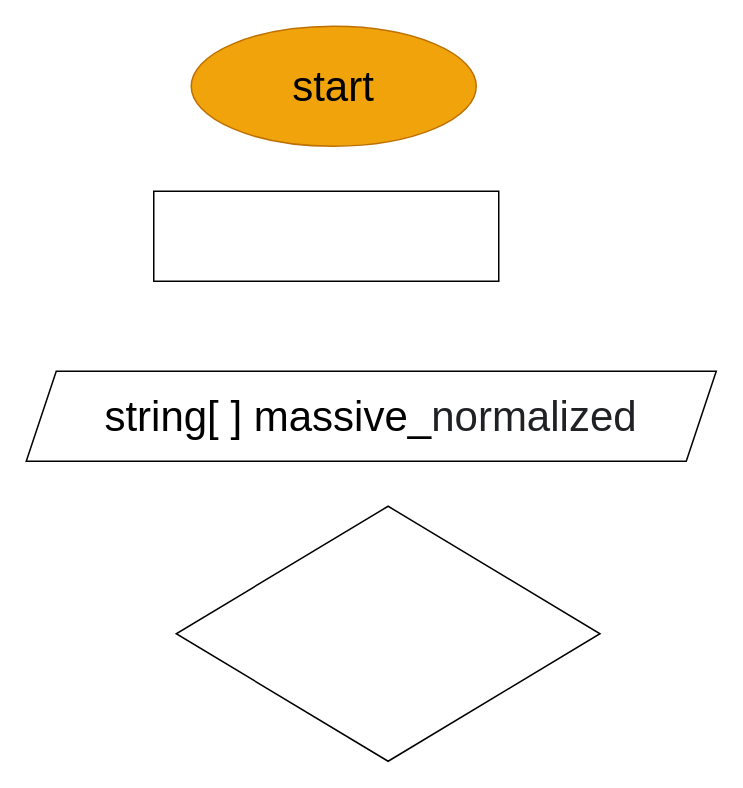
Image size: 743x788. Some labels were removed from this diagram. The centre of each missing label's shape, as x and y in pixels:
if: [387,633]
string[ ] massive: [325,235]
